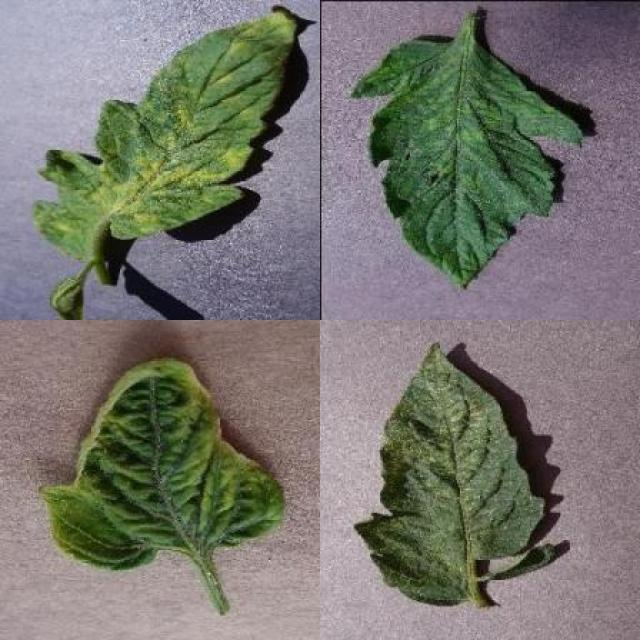Leaf Mold: (34, 7, 299, 260)
Mosaic Virus: (351, 37, 584, 293)
Spider Mites: (354, 342, 546, 608)
Yellow Leaf Curl Virus: (36, 356, 284, 571)
